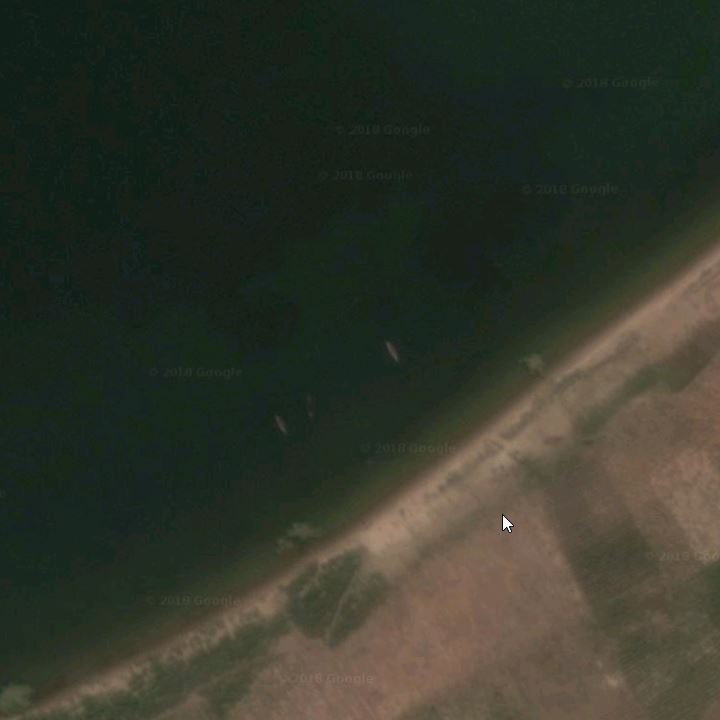boat: (380, 332, 405, 370), (268, 412, 293, 446), (304, 391, 318, 424)
